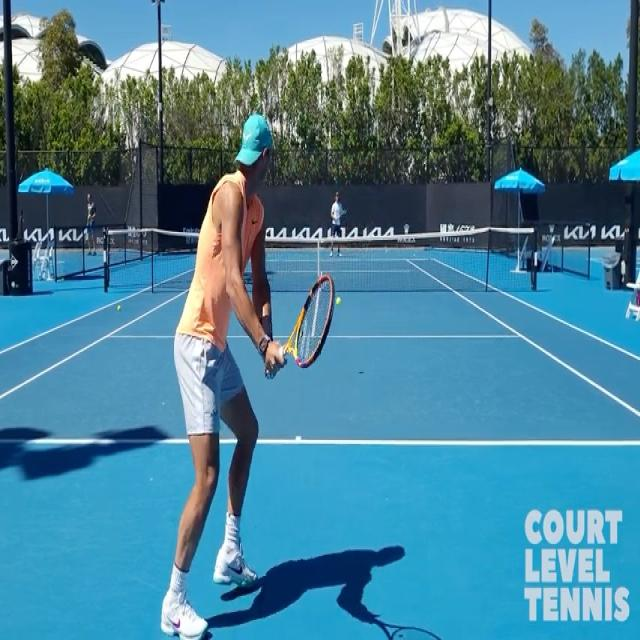backhand-ready: (165, 106, 335, 640)
